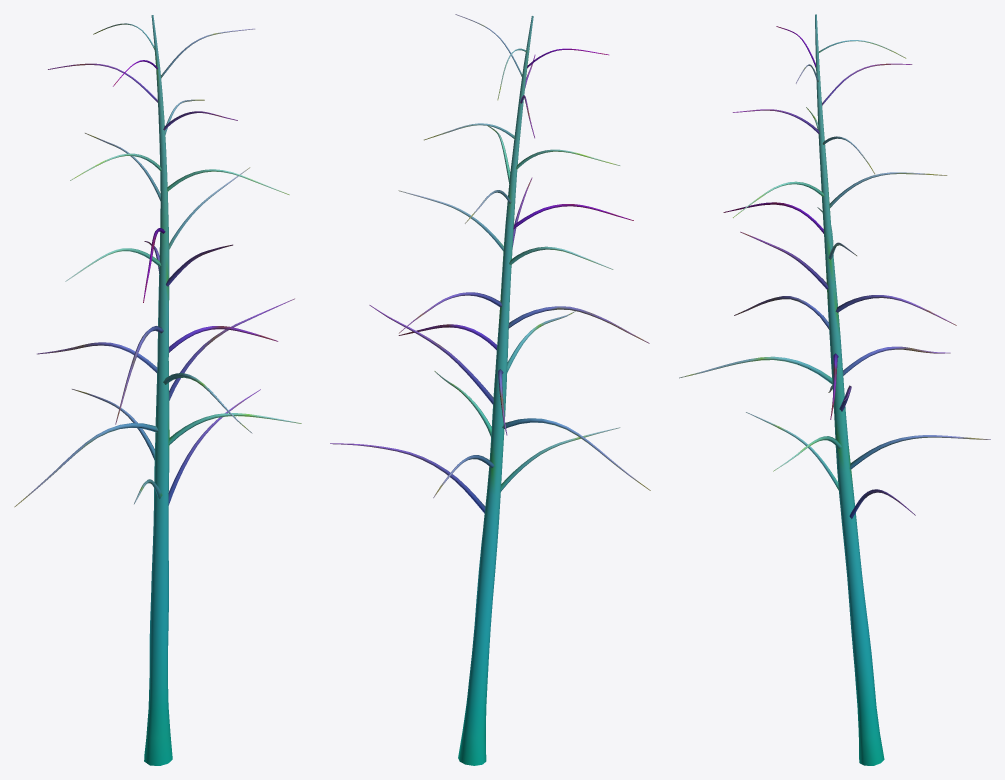
Rendered from birch-grove-a.glb.
The picture shows the model from 3 angles, left to right: view 1: azimuth 30°, elevation 25°; view 2: azimuth 150°, elevation 25°; view 3: azimuth 270°, elevation 25°; orthographic projection. The views are drawn at different scales.
Visible parts, largest first — view 1: bark; view 2: bark; view 3: bark.
Part boxes in pixels (x1=…): bark: x1=14, y1=15, x2=301, y2=765; bark: x1=330, y1=14, x2=650, y2=765; bark: x1=679, y1=14, x2=990, y2=765.
Size of the model in its own units: 6.62 by 16.76 by 6.48.
